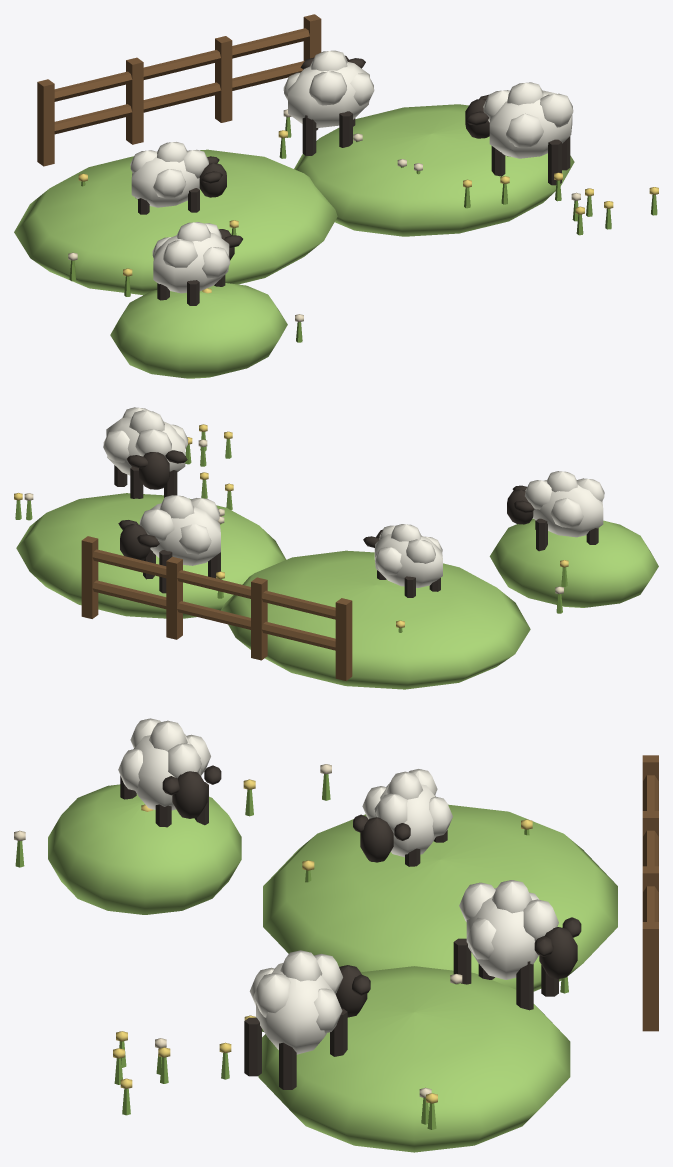
Rendered from terrain-pasture-0.glb.
3 views of the same model, one above another, from view 1: azimuth 30°, elevation 25°; view 2: azimuth 150°, elevation 25°; view 3: azimuth 270°, elevation 25° (orthographic). The views are drawn at different scales.
Parts seen in each view (by area): view 1: terrain-pasture-0, terrain-pasture-0.002, terrain-pasture-0.003, terrain-pasture-0.001, terrain-pasture-0.004, terrain-pasture-0.006; view 2: terrain-pasture-0, terrain-pasture-0.002, terrain-pasture-0.003, terrain-pasture-0.001, terrain-pasture-0.004, terrain-pasture-0.006; view 3: terrain-pasture-0, terrain-pasture-0.002, terrain-pasture-0.001, terrain-pasture-0.003, terrain-pasture-0.004, terrain-pasture-0.006.
Boxes of the visible parts, left/top/right/bottom form: terrain-pasture-0: left=14, top=104, right=574, bottom=378; terrain-pasture-0.002: left=130, top=50, right=573, bottom=293; terrain-pasture-0.003: left=37, top=14, right=321, bottom=166; terrain-pasture-0.001: left=137, top=55, right=570, bottom=305; terrain-pasture-0.004: left=69, top=117, right=657, bottom=342; terrain-pasture-0.006: left=78, top=130, right=658, bottom=293; terrain-pasture-0: left=16, top=493, right=658, bottom=689; terrain-pasture-0.002: left=103, top=407, right=604, bottom=587; terrain-pasture-0.003: left=81, top=536, right=352, bottom=680; terrain-pasture-0.001: left=114, top=450, right=598, bottom=597; terrain-pasture-0.004: left=15, top=432, right=567, bottom=632; terrain-pasture-0.006: left=14, top=424, right=568, bottom=628; terrain-pasture-0: left=48, top=784, right=617, bottom=1152; terrain-pasture-0.002: left=118, top=718, right=558, bottom=1054; terrain-pasture-0.001: left=120, top=765, right=581, bottom=1089; terrain-pasture-0.003: left=642, top=755, right=658, bottom=1031; terrain-pasture-0.004: left=15, top=774, right=568, bottom=1129; terrain-pasture-0.006: left=113, top=779, right=532, bottom=1103.
Size of the model in its own units: 1.25 by 0.3113 by 0.9819.
